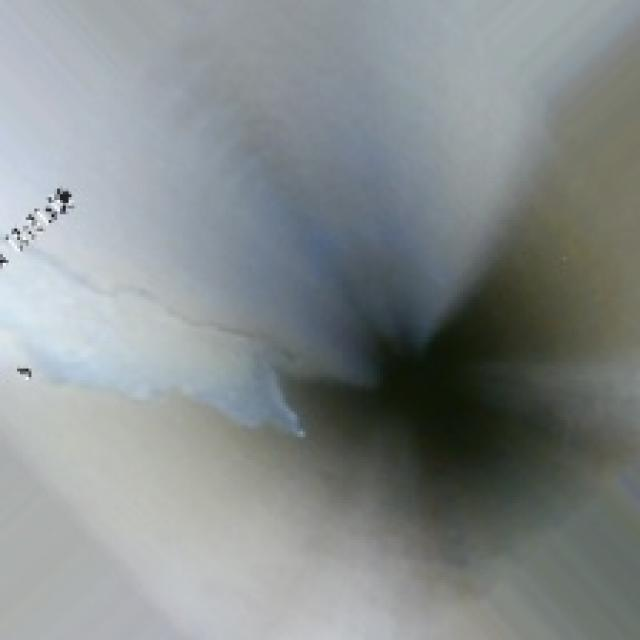pipe_surface_damage: (31, 268, 326, 443)
